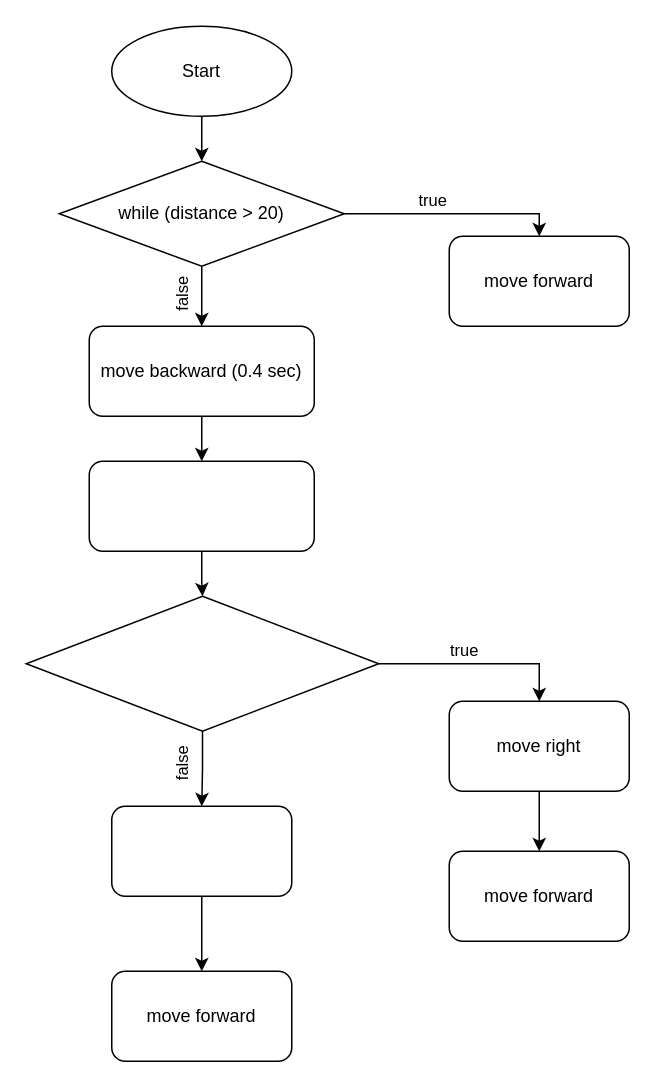
Image size: 656x1088. Some labels were removed from this diagram. Here are the shapes that lost their labels. From the top down, the centre of each, then its label:
(201,505): look left and look right
(202,663): if ( distance_right > distance_left)
(201,850): move left
